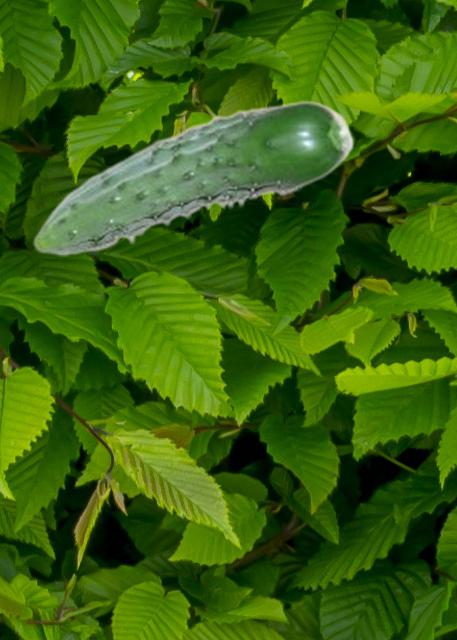cucumber: (32, 100, 354, 255)
